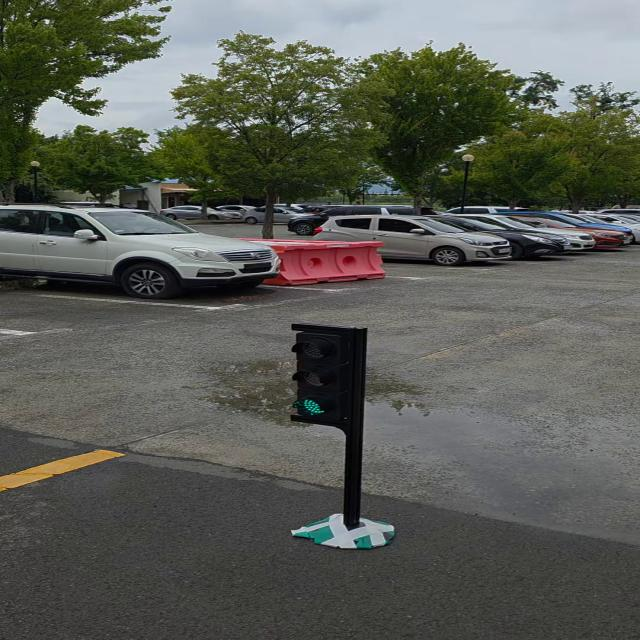green: (289, 321, 370, 428)
